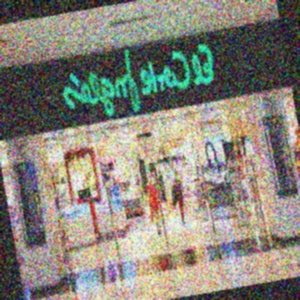corte_ingles: (195, 18, 249, 53)
